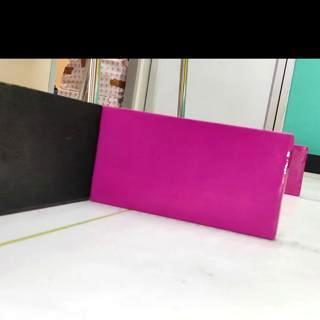xparking: (89, 108, 296, 241), (286, 145, 309, 196)
